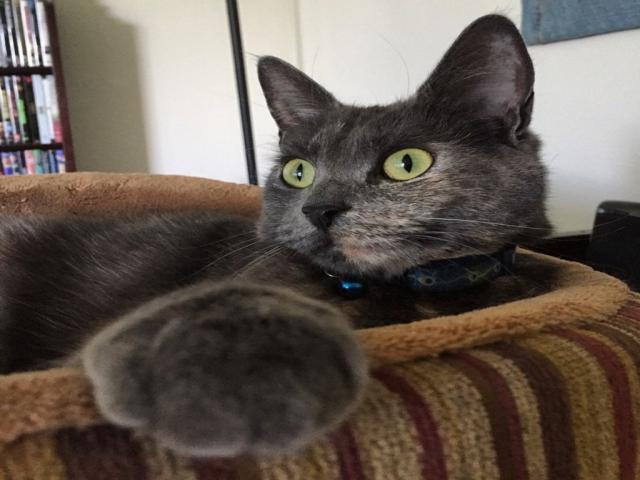Cat: (0, 12, 567, 460)
